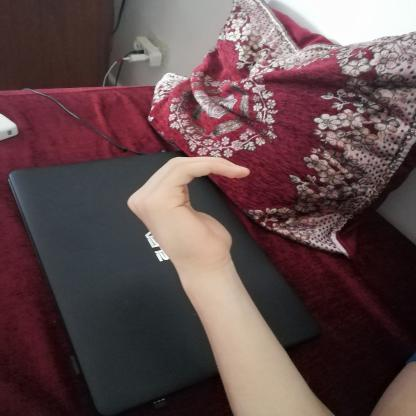HAA: (113, 144, 263, 270)
